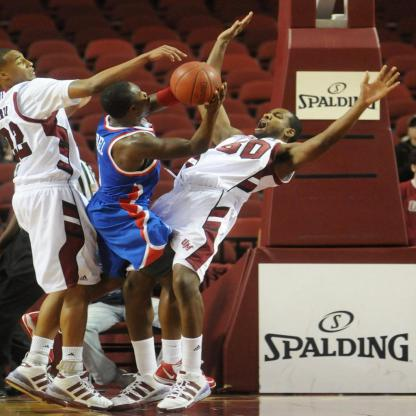face: (6, 51, 38, 83), (256, 109, 293, 136), (128, 83, 153, 120)
